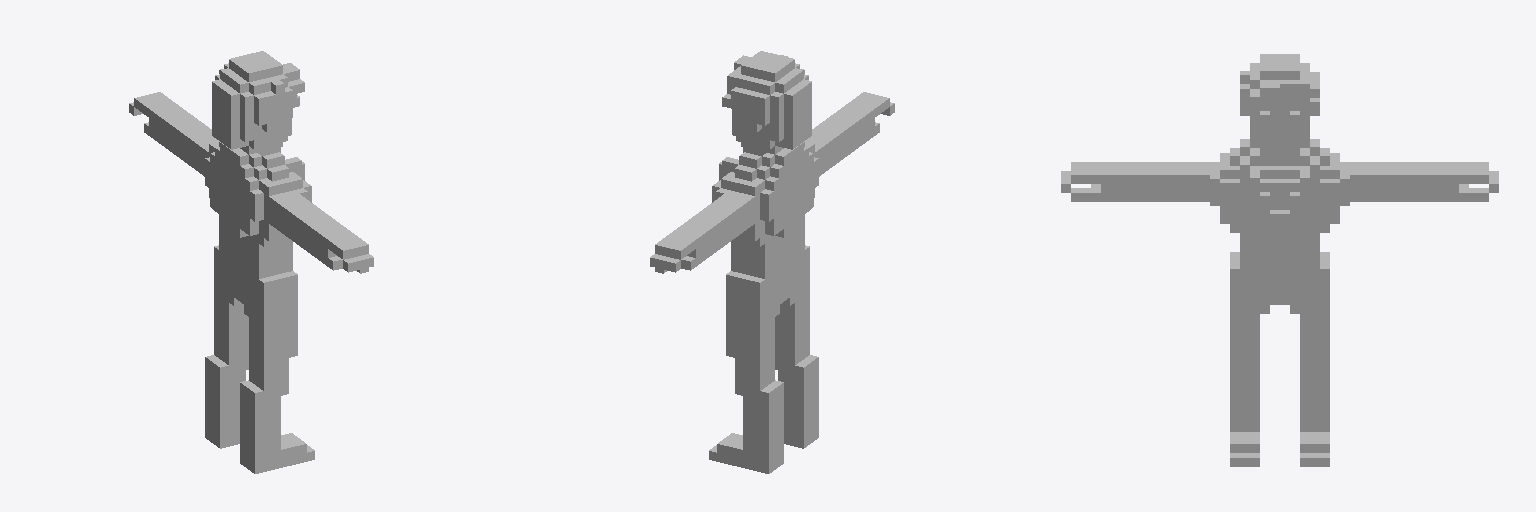
Rendered from voxel.obj.
3 views of the same model, side by side, from view 1: azimuth 30°, elevation 25°; view 2: azimuth 150°, elevation 25°; view 3: azimuth 270°, elevation 25° (orthographic).
Parts seen in each view (by area): view 1: object 1; view 2: object 1; view 3: object 1.
Boxes of the visible parts, <box> form: object 1: <box>129,51,373,473</box>; object 1: <box>650,51,894,473</box>; object 1: <box>1061,54,1498,466</box>.
Bounding box in the file's own units: 0.8 × 4.3 × 4.4.